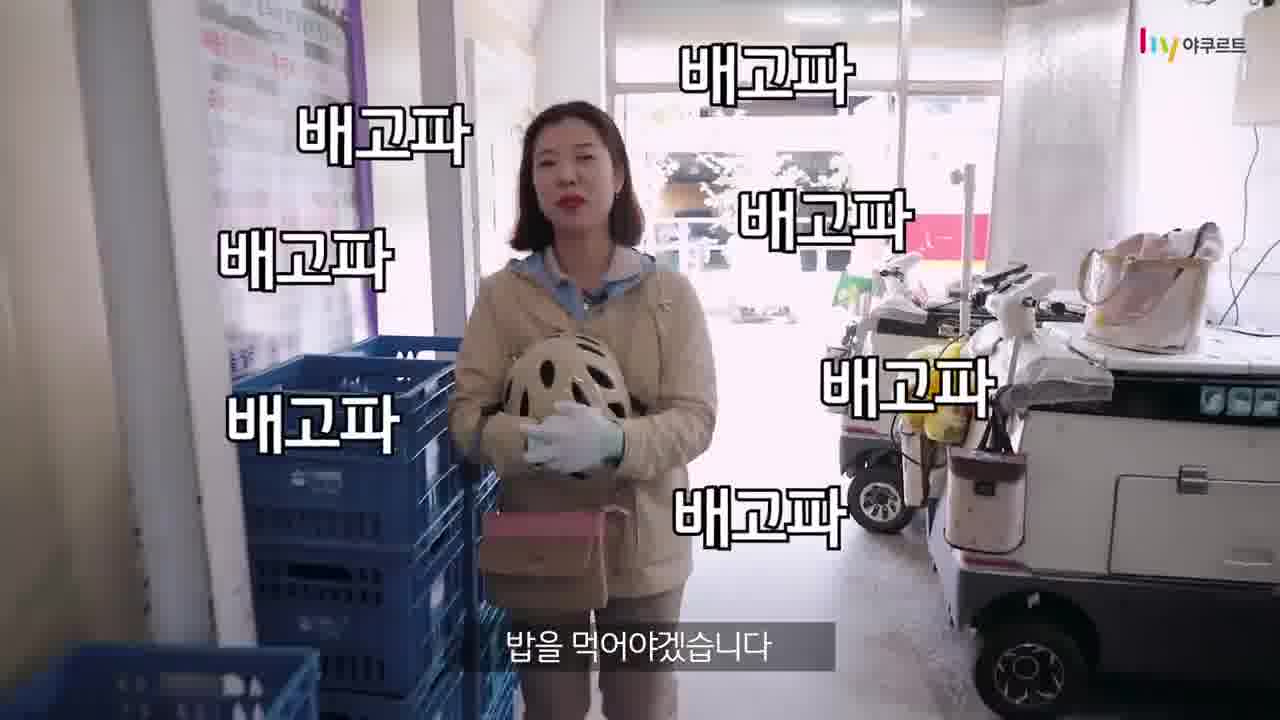Yakurut: (443, 96, 738, 720)
